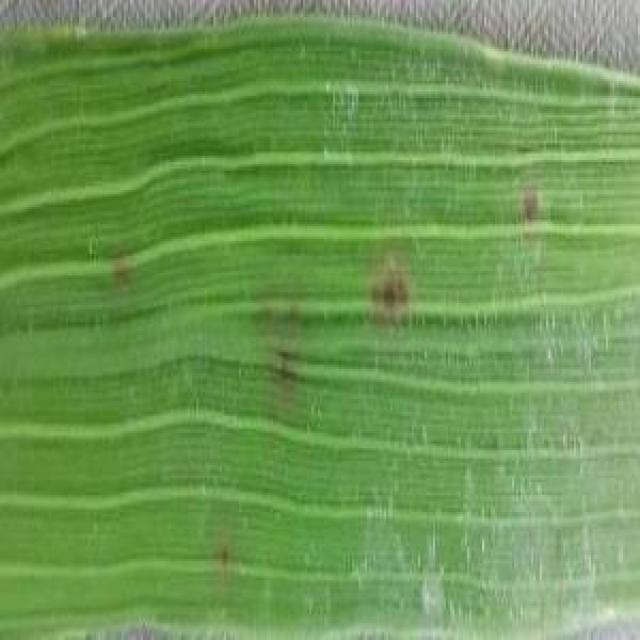Brown_Spot: (246, 286, 315, 414), (360, 262, 416, 336), (514, 177, 550, 234), (205, 544, 238, 579)
